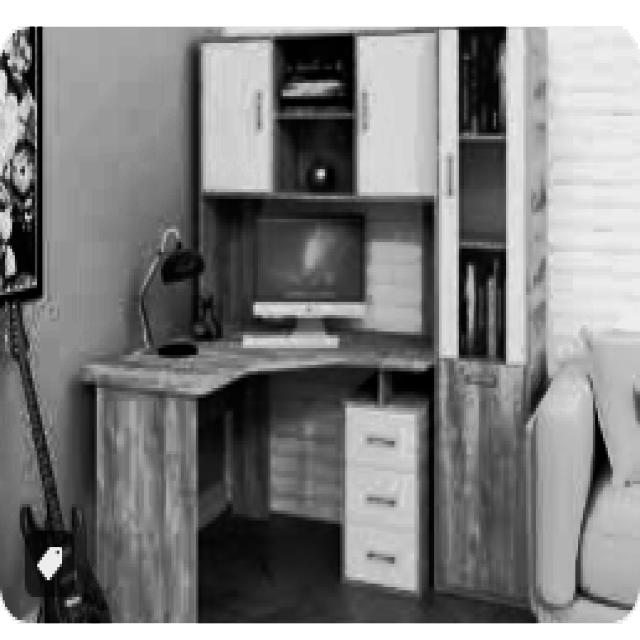table: (77, 325, 434, 620)
